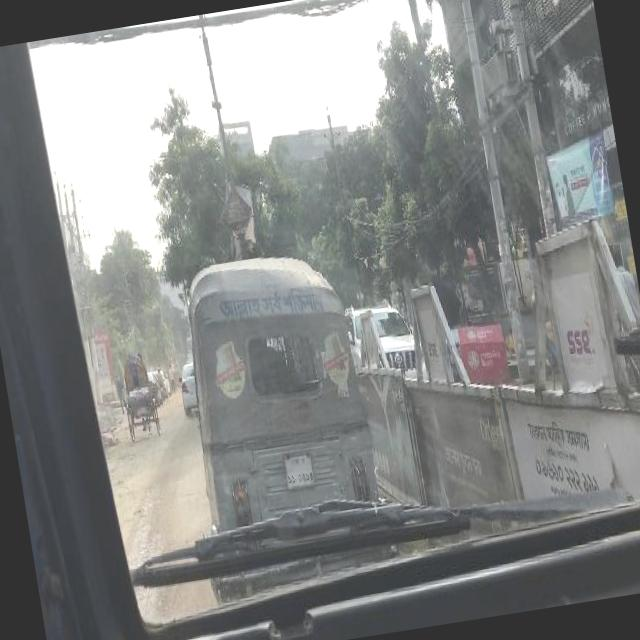car: (343, 296, 427, 392), (174, 358, 200, 412), (147, 369, 162, 404)
motorcycle: (175, 247, 394, 601), (118, 352, 160, 438), (157, 377, 167, 401)
